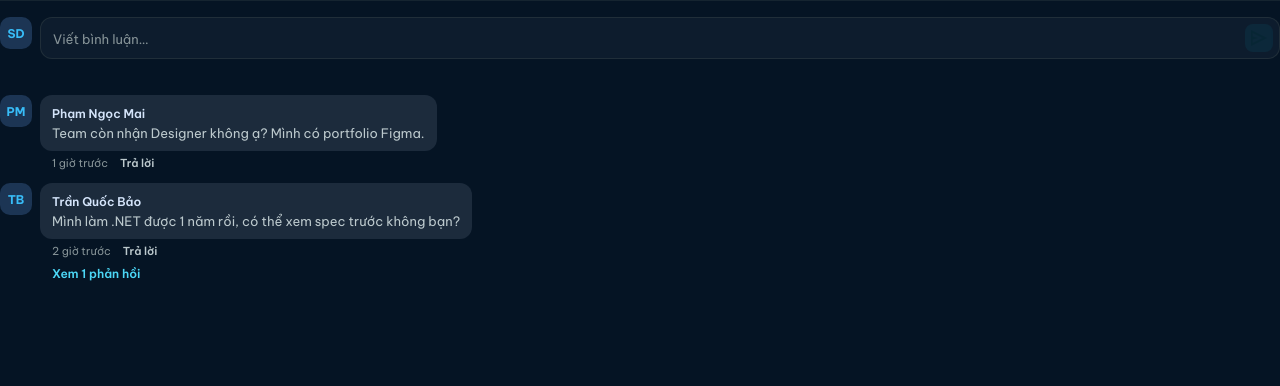
Test: CommentSection › xem phản hồi của một bình luận
The image size is (1280, 386).
Click the button "Xem 1 phản hồi": point(90, 274) [40, 263, 140, 284]
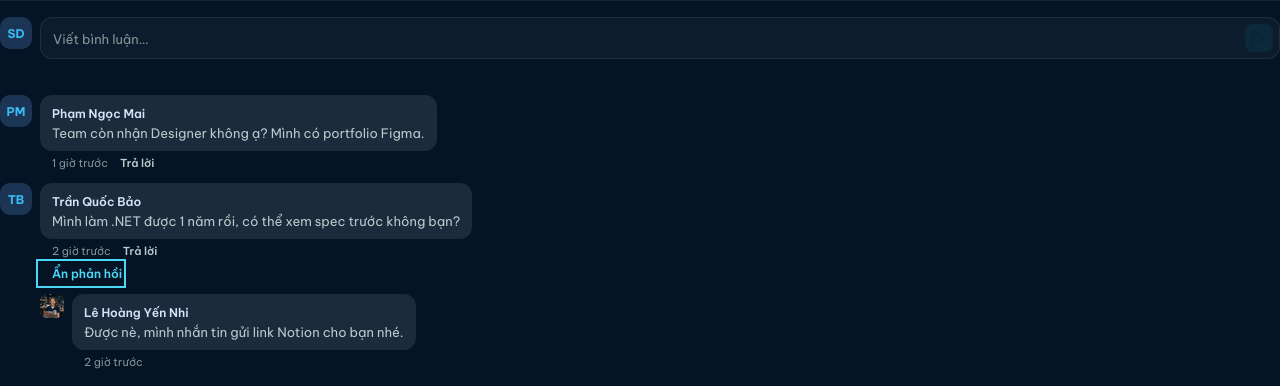
Result: the text "Được nè, mình nhắn tin gửi link Notion cho bạn nhé." is shown at [84, 323, 404, 342]
Result: the button named "Xem 1 phản hồi" is expanded
Click the button named "Xem 1 phản hồi": point(81, 274) [40, 263, 122, 284]
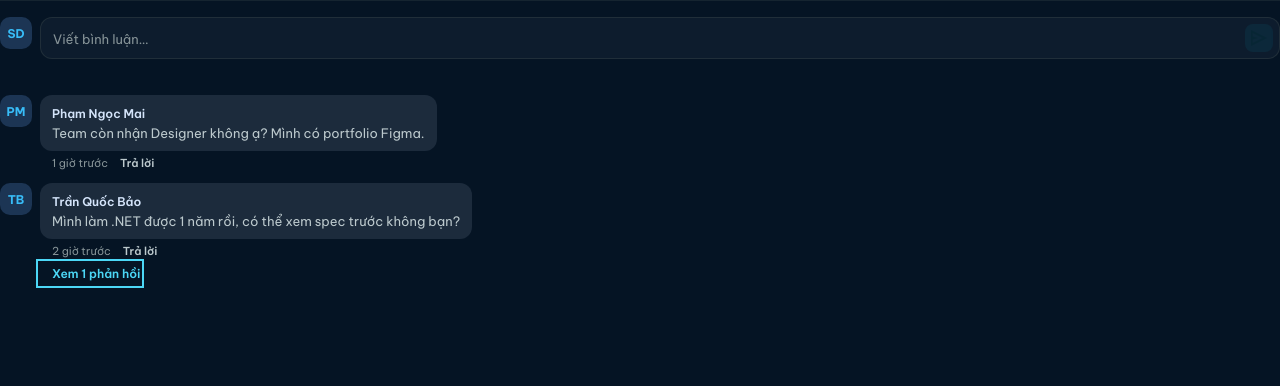
Result: the text "gửi link Notion" is gone
